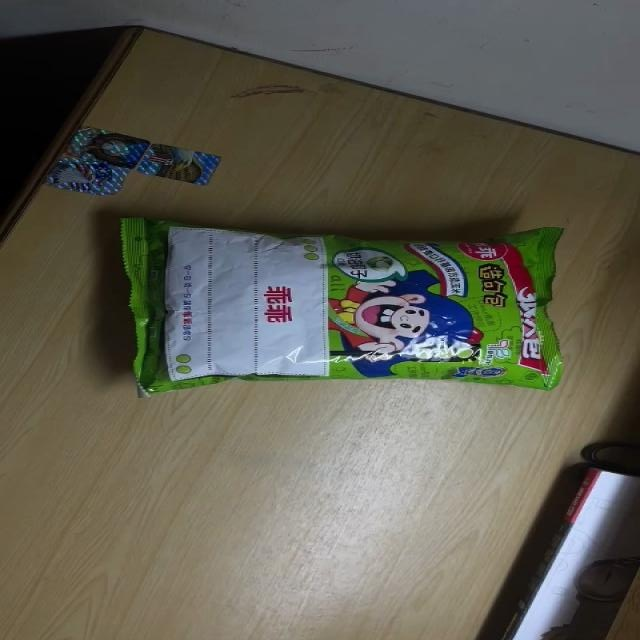Good-Luck: (119, 217, 567, 398)
